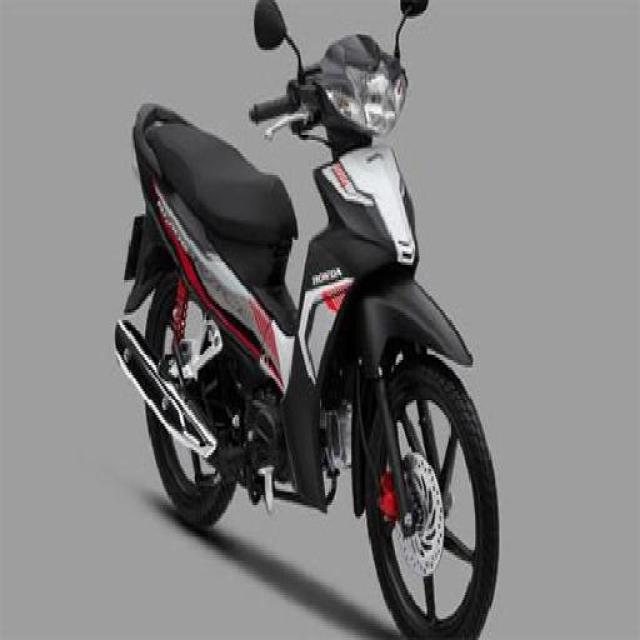All: (90, 30, 505, 640)
Head: (235, 45, 410, 127)
Tail: (118, 95, 198, 180)
